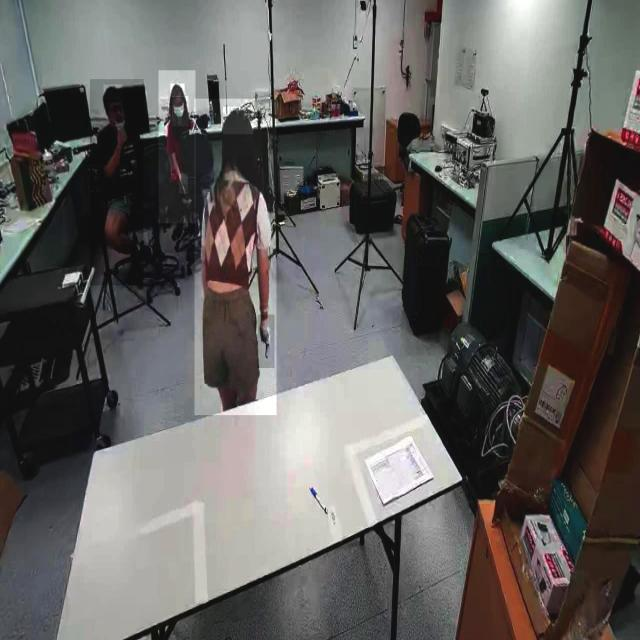face_mask: (172, 96, 188, 126)
hand_glove: (257, 315, 275, 369)
hand_noglove: (117, 124, 129, 144), (178, 173, 188, 195)
head_nohelmet: (222, 107, 254, 135), (103, 84, 123, 100), (170, 84, 184, 98)
person: (194, 99, 276, 416), (90, 79, 144, 286), (158, 70, 196, 224)
